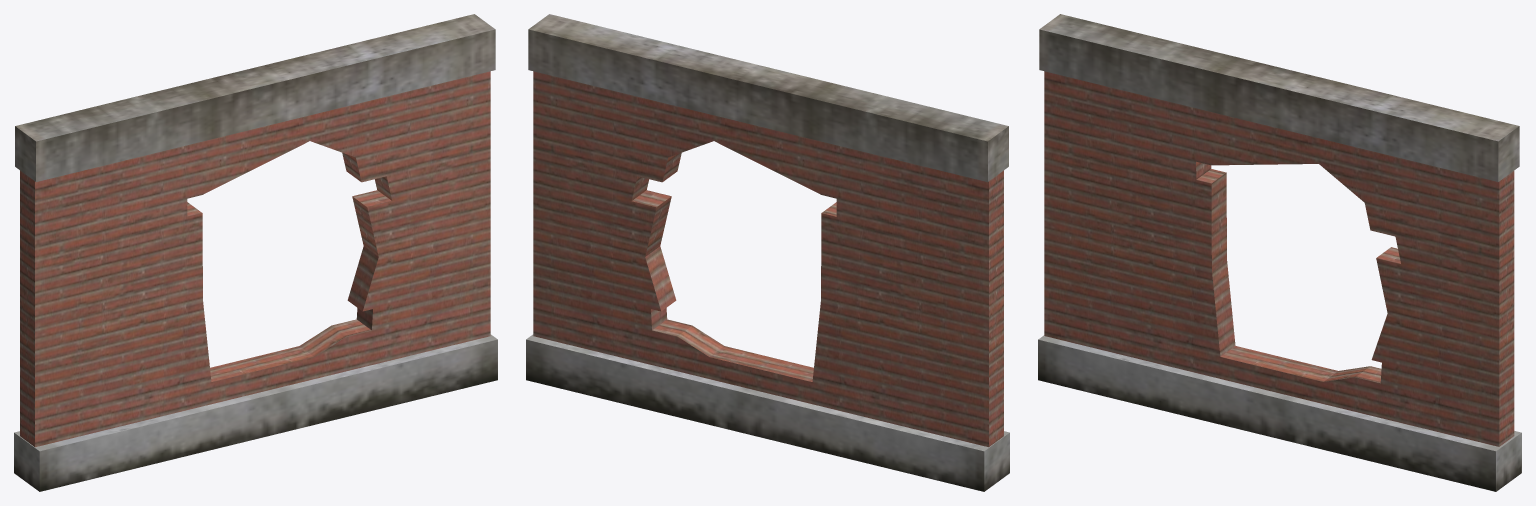
File: Wall3.glb
3 renders of one model, left to right at view 1: azimuth 30°, elevation 25°; view 2: azimuth 150°, elevation 25°; view 3: azimuth 330°, elevation 25°, orthographic.
Parts seen in each view (by area): view 1: Wall_3; view 2: Wall_3; view 3: Wall_3.
Part boxes in pixels (bbox=[...]): Wall_3: bbox=[14, 14, 497, 491]; Wall_3: bbox=[526, 14, 1009, 491]; Wall_3: bbox=[1038, 14, 1521, 491].
Size of the model in its own units: 328 by 238 by 31.82.
Materials: 2 (2 with a texture image).
